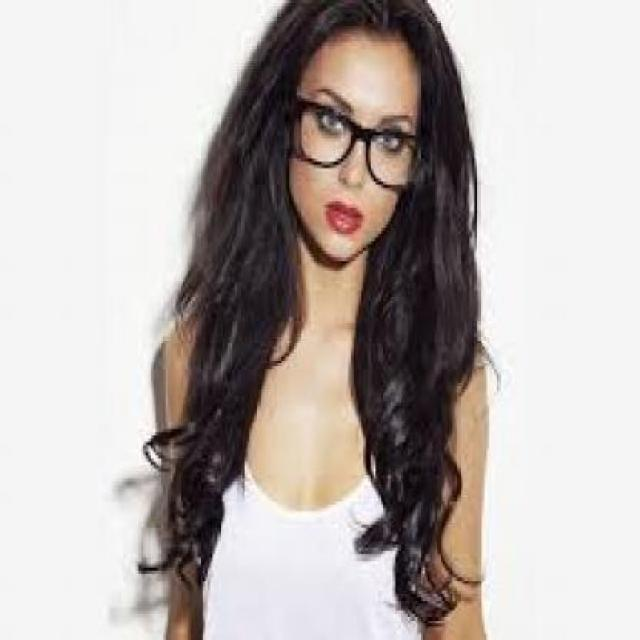glasses: (285, 86, 430, 199)
